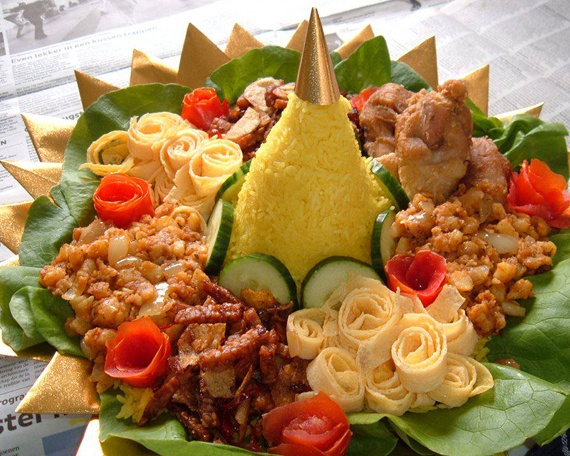nasi_tumpeng: (41, 5, 553, 447)
